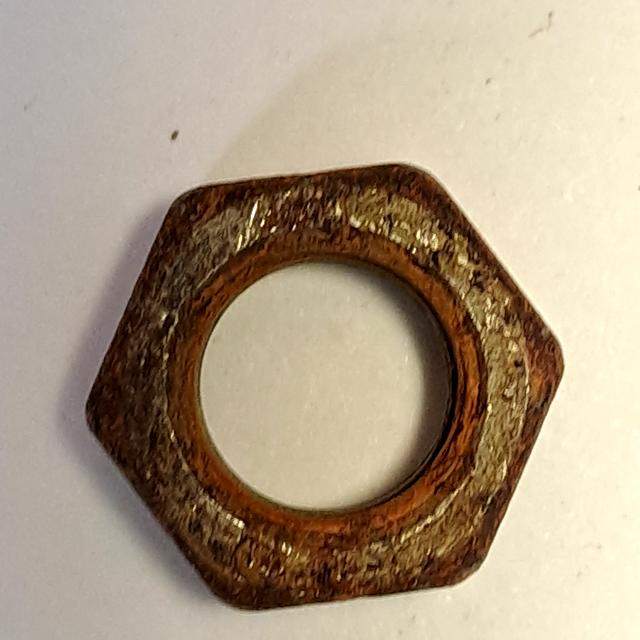Rust: (66, 141, 580, 626)
